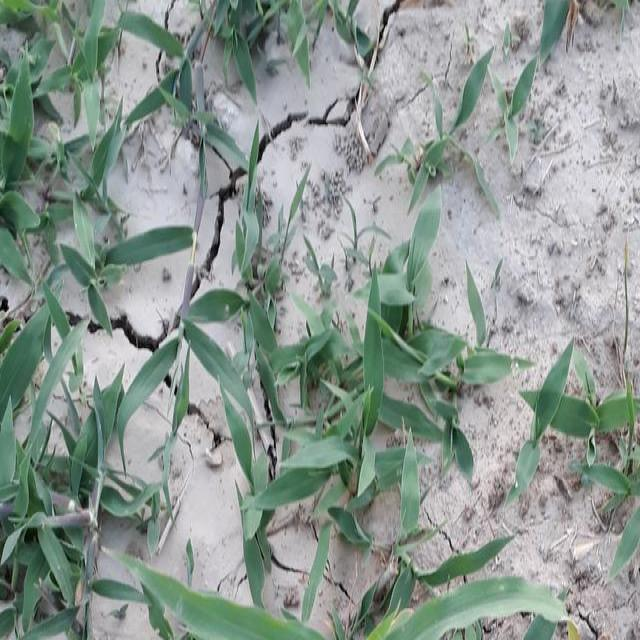weed: (198, 169, 498, 532), (0, 0, 129, 626)
